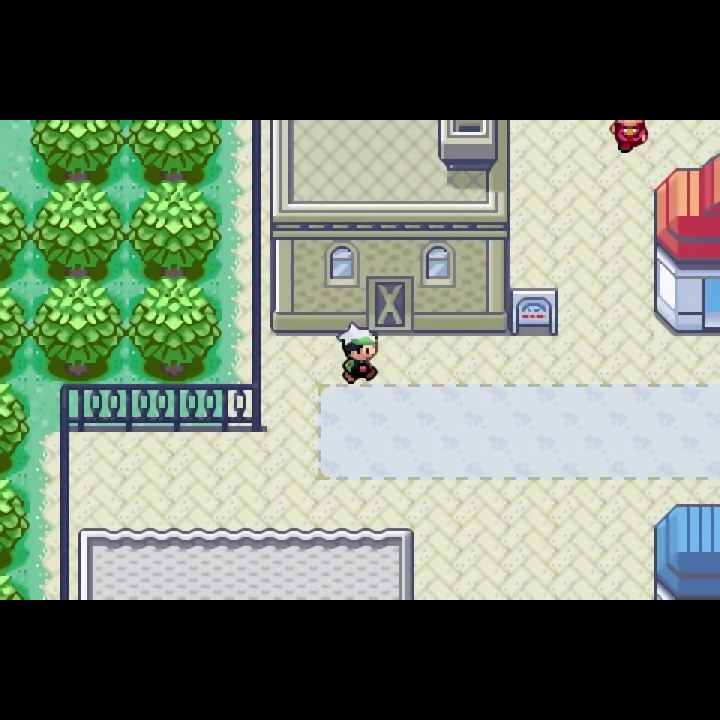house: (268, 118, 513, 337), (77, 527, 416, 600)
npc: (335, 316, 382, 387), (606, 120, 652, 157)
pokecen: (650, 148, 720, 339)
pokemart: (652, 503, 720, 600)
wall: (29, 275, 127, 383), (127, 276, 224, 383), (127, 178, 223, 280), (29, 180, 126, 279), (29, 121, 127, 179), (127, 121, 223, 176), (1, 275, 29, 384), (1, 379, 32, 475), (1, 473, 30, 575), (1, 181, 29, 280)
